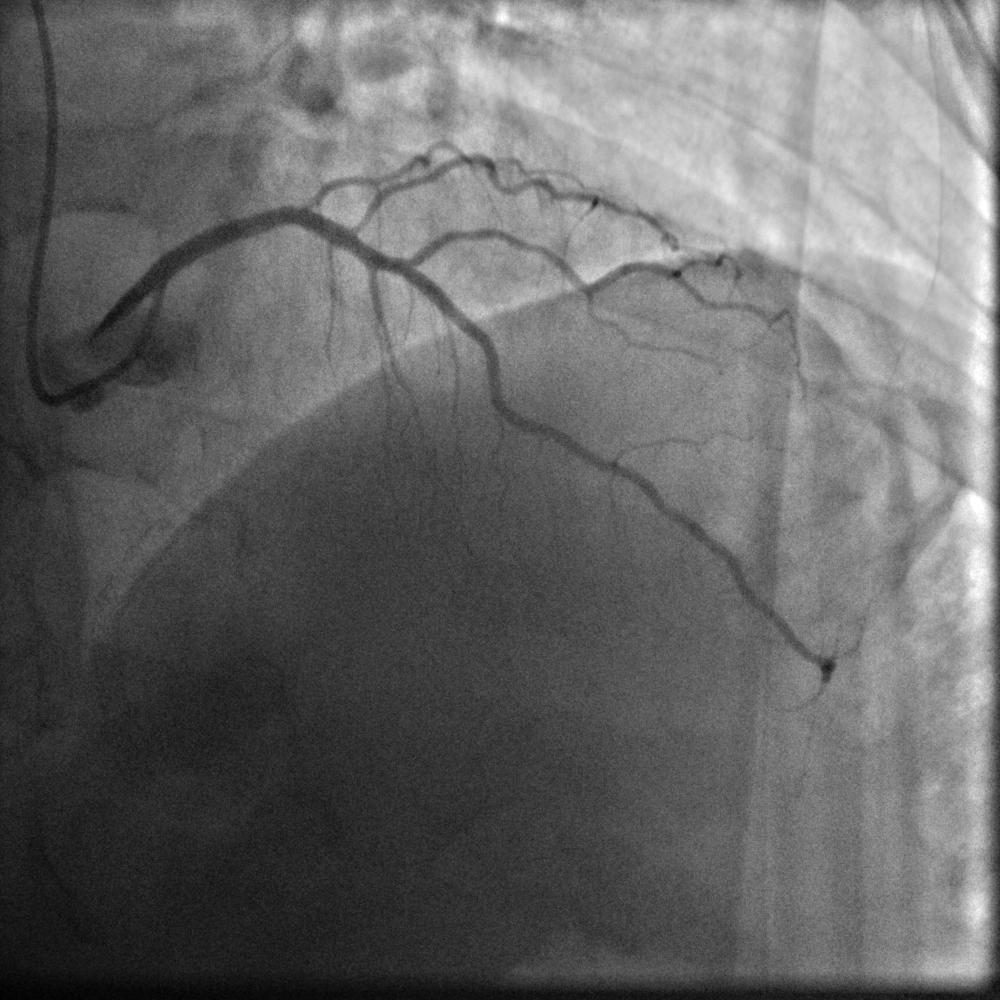Stenosis: (297, 182, 367, 241)
